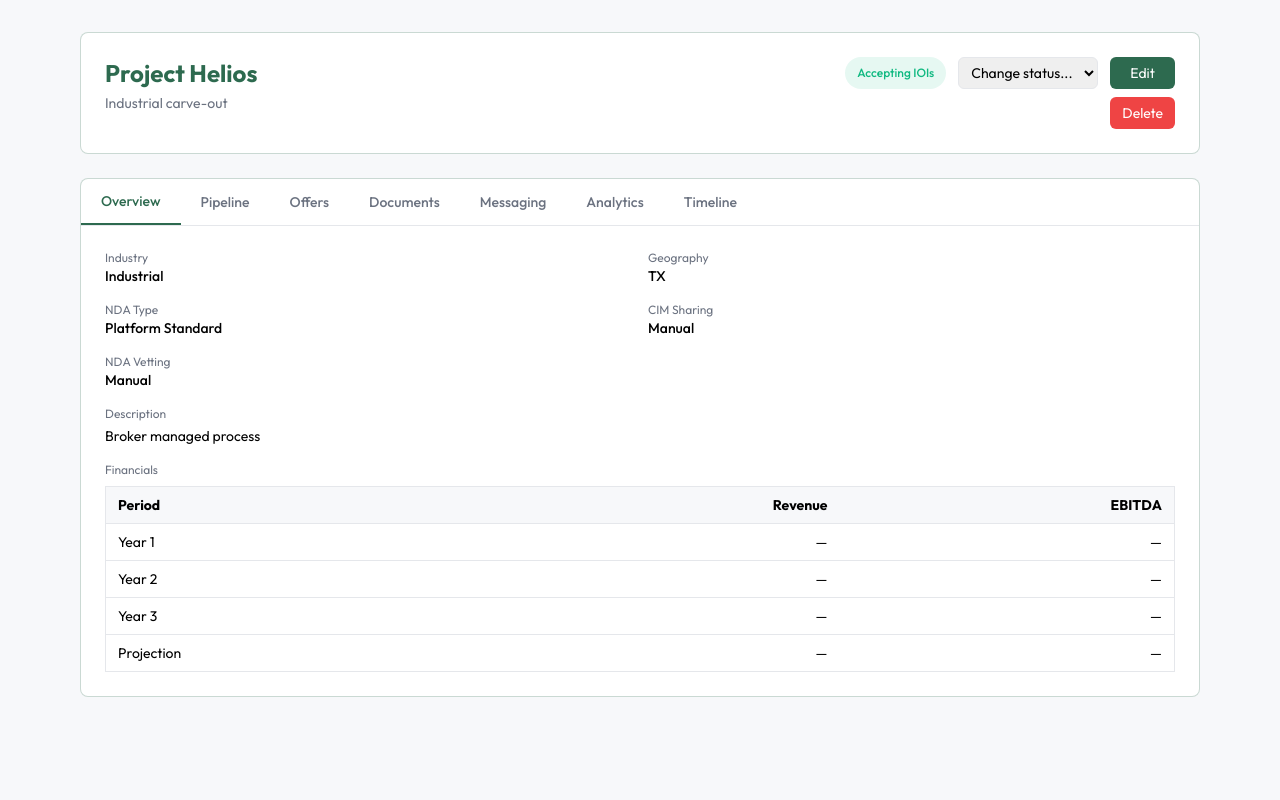
Test: BrokerDealManagement pipeline manual actions › keeps latest pipeline and timeline data when refresh responses resolve out of order
expect the heading "Project Helios" is shown: met, box [105,57,257,89]
Click the button "Pipeline".
click(225, 202)  # box [180,179,270,225]
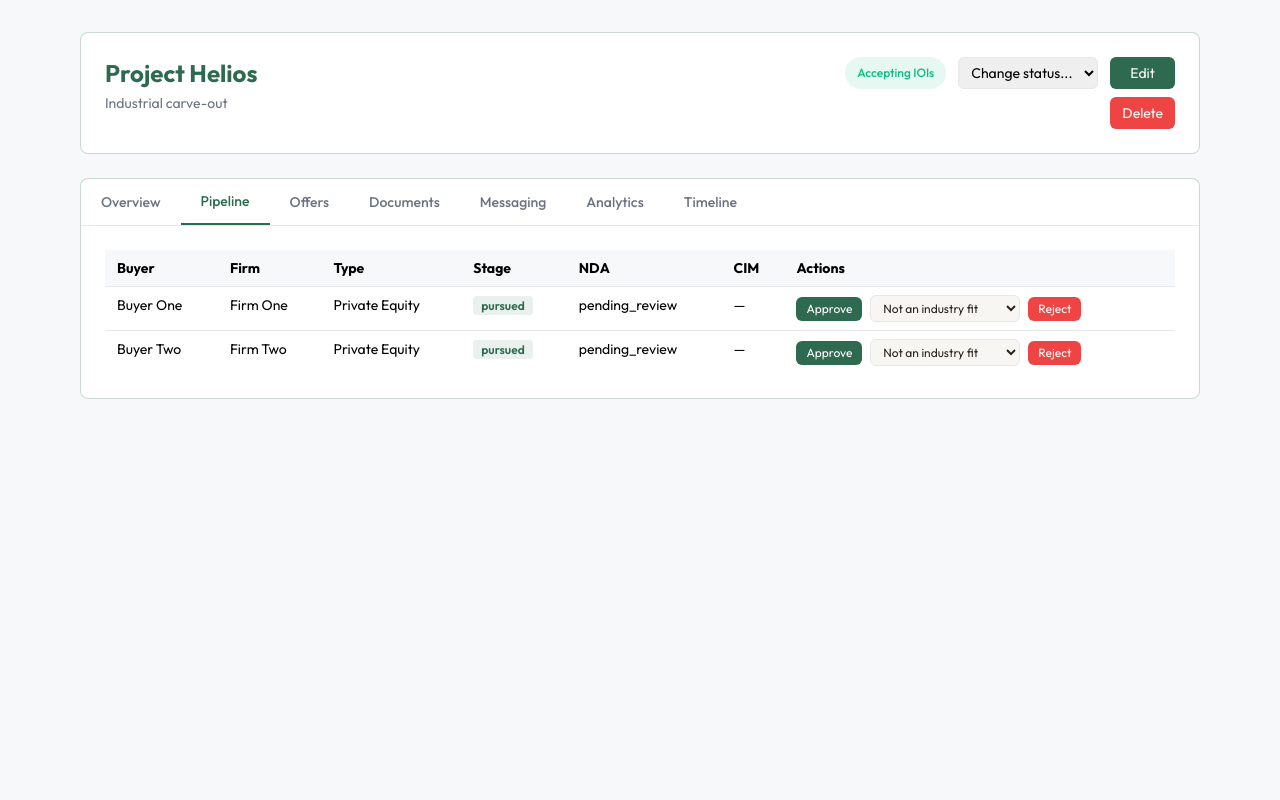
Click the button with aria-label "Approve NDA vetting for Buyer One".
click(829, 308)  # box [796,296,862,320]
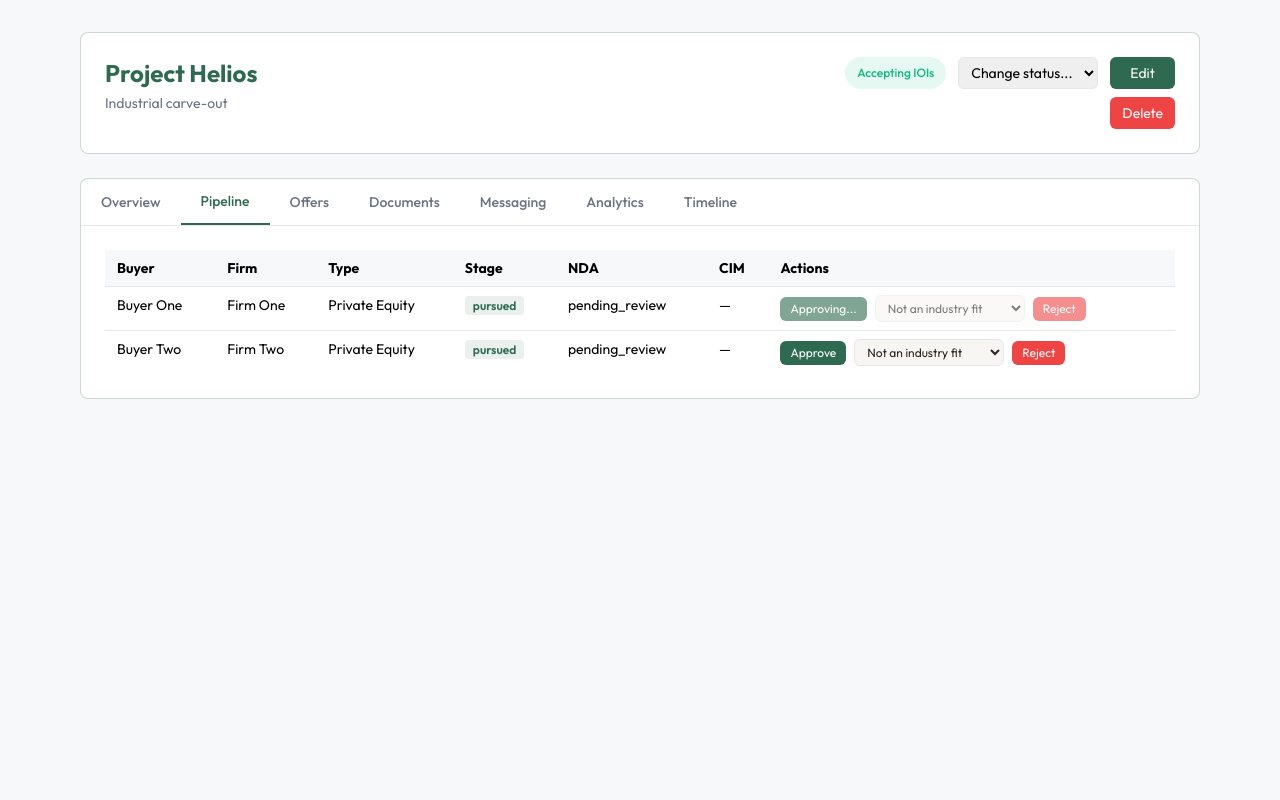
Click the button with aria-label "Approve NDA vetting for Buyer Two".
click(813, 352)  # box [780,340,846,364]
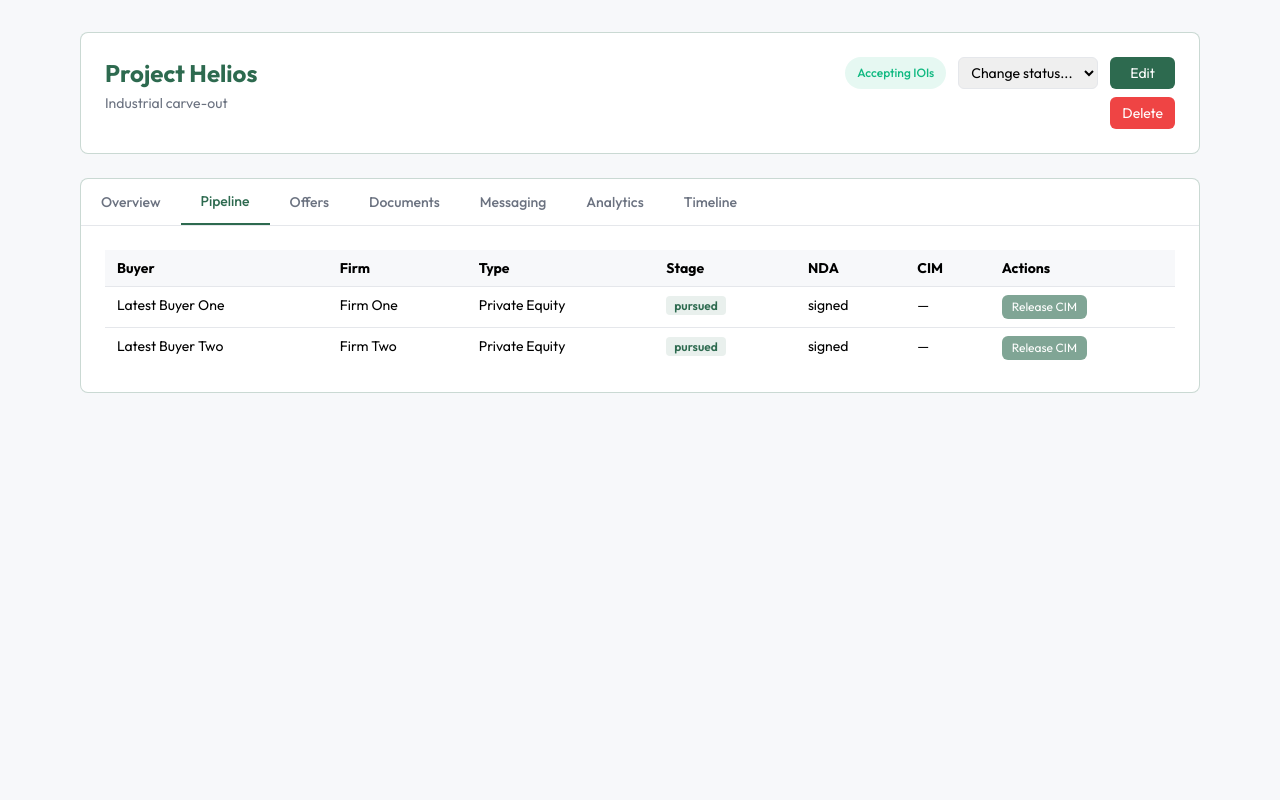
expect the text "Latest Buyer One" is shown: met, box [105,286,328,328]
Click the button "Timeline".
click(710, 202)  # box [664,179,757,225]
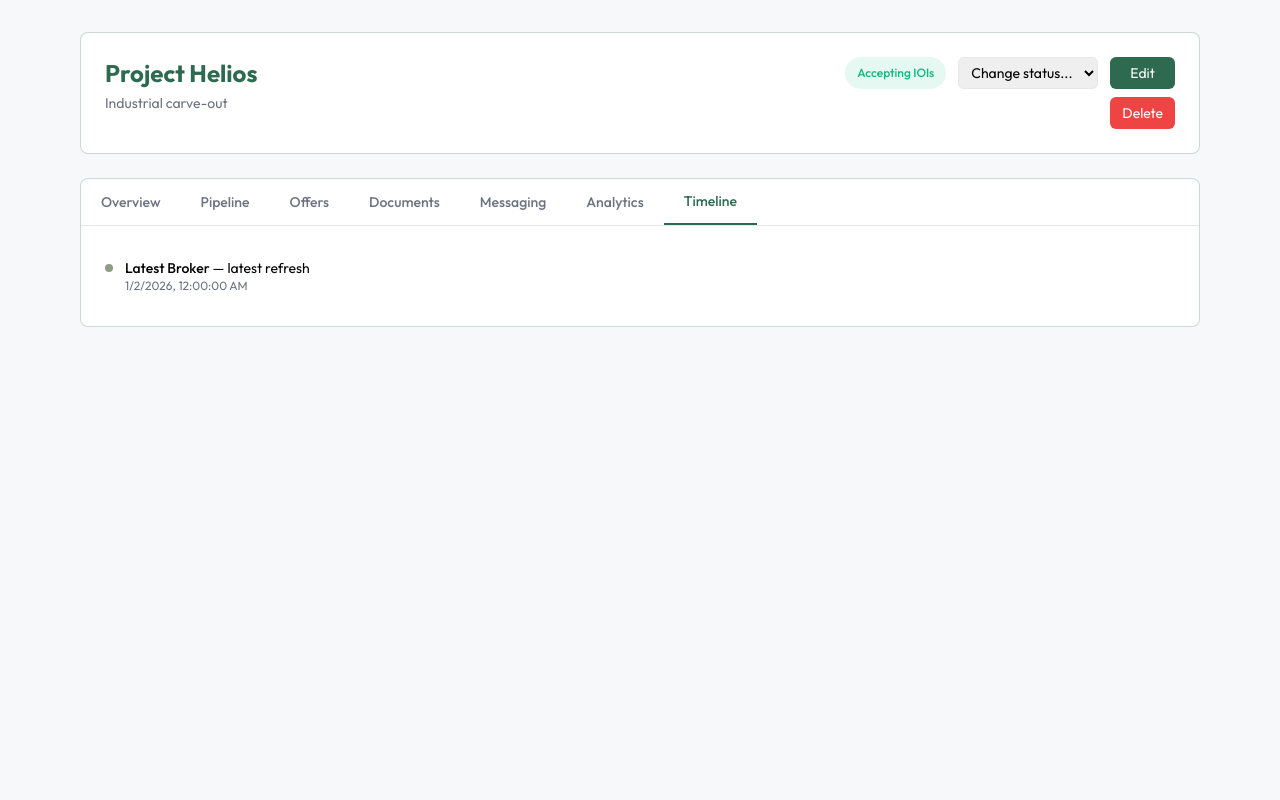
expect the text "Latest Broker — latest refresh" is shown: met, box [125,258,310,278]
